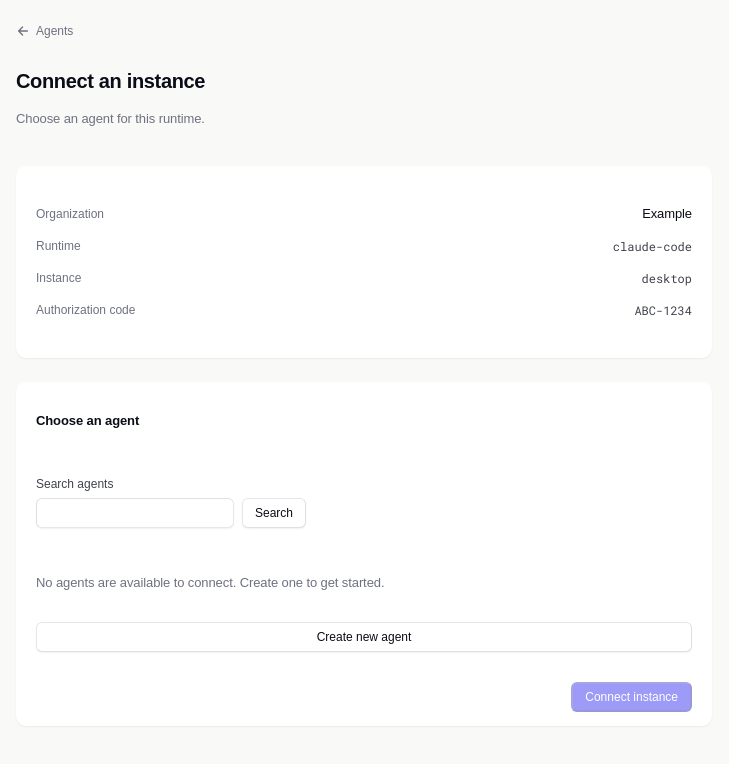
Test: CLI enrollment authorization › creates a parent first, retains it after authorization failure, and retries that target
Click the button "Create new agent" at {"x": 364, "y": 637}, box left=36, top=622, right=692, bottom=652
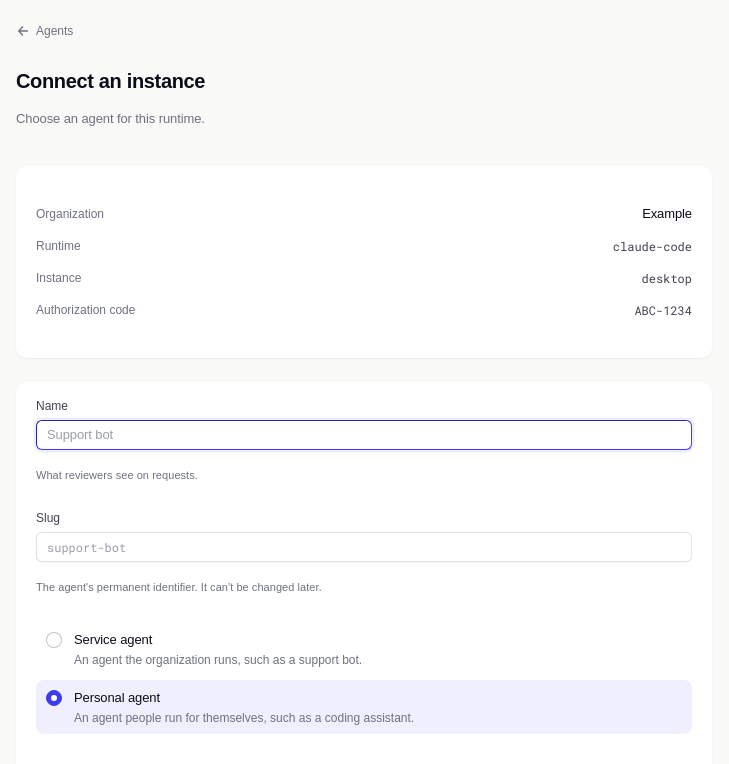
Type "Coding agents" into the field labelled "Name" at {"x": 364, "y": 435}, box left=36, top=420, right=692, bottom=450
(page scrolled)
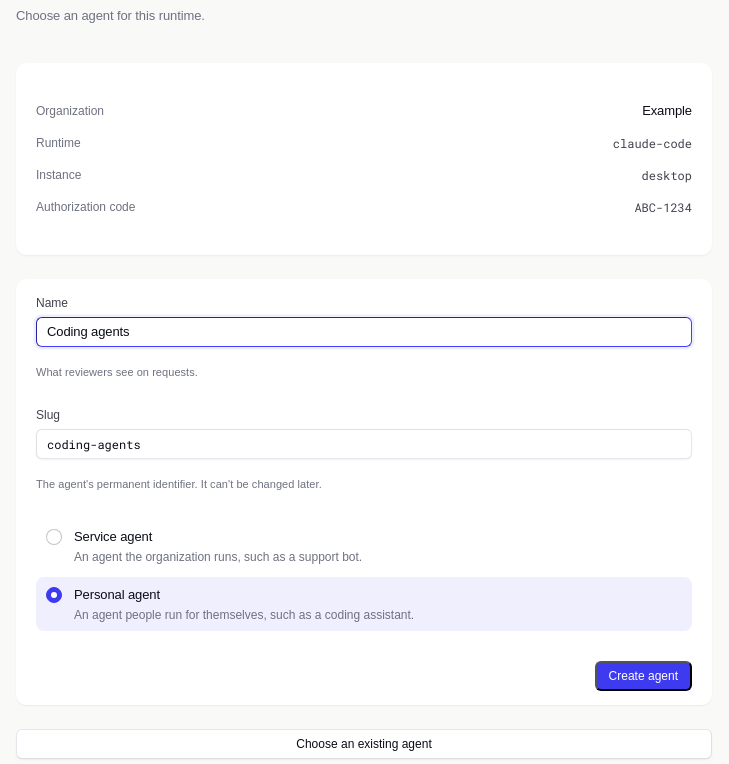
Now the field labelled "Slug" holds "coding-agents", box left=36, top=429, right=692, bottom=459
Click the button "Create agent" at {"x": 643, "y": 676}, box left=595, top=661, right=692, bottom=691
(page scrolled)
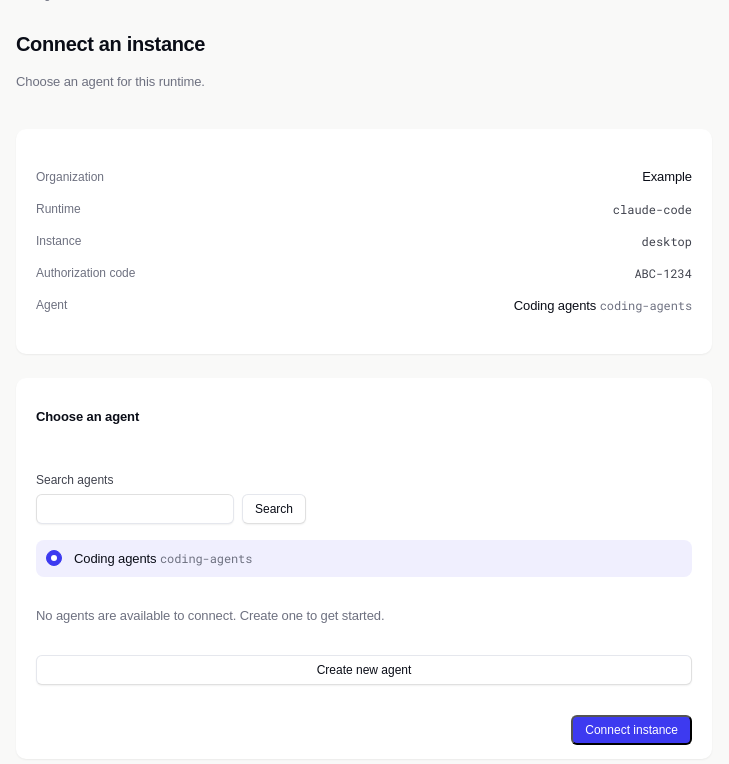
Now the button "Connect instance" is shown
Click the button "Connect instance" at {"x": 632, "y": 730}, box left=571, top=715, right=692, bottom=745
(page scrolled)
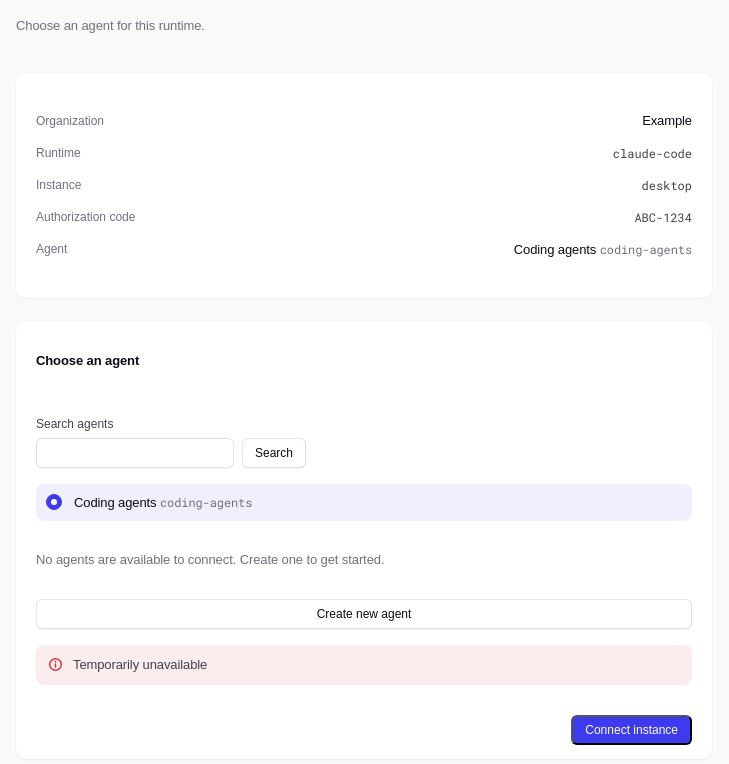
Now the message "Temporarily unavailable" is shown, box left=36, top=645, right=692, bottom=685
Click the button "Connect instance" at {"x": 632, "y": 730}, box left=571, top=715, right=692, bottom=745
(page scrolled)
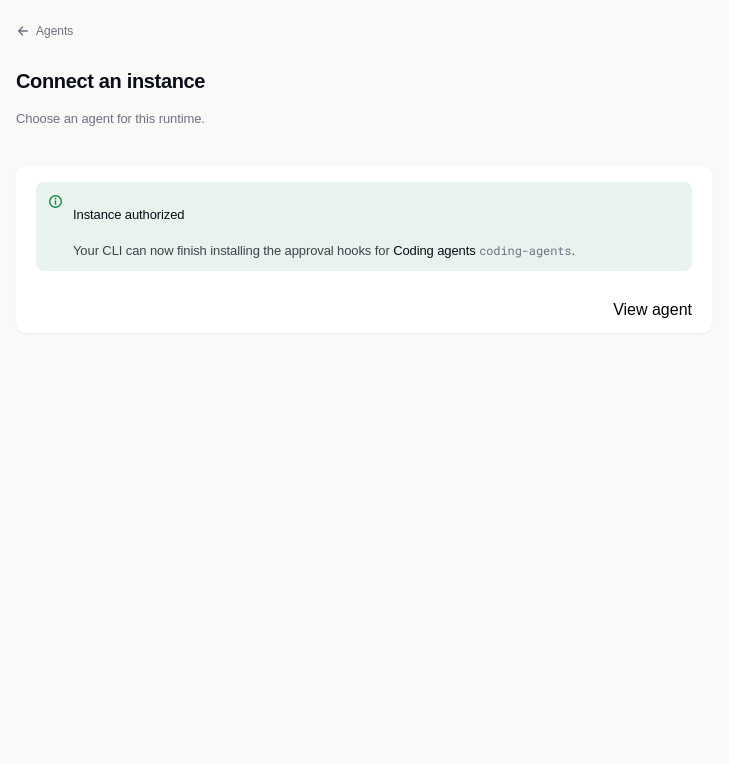
Now the text "Instance authorized" is shown, box left=73, top=207, right=184, bottom=222
